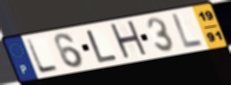3: (147, 16, 176, 55)
6: (54, 32, 86, 71)
H: (108, 19, 151, 62)
L: (25, 38, 61, 75), (170, 12, 205, 50), (85, 28, 120, 64)
